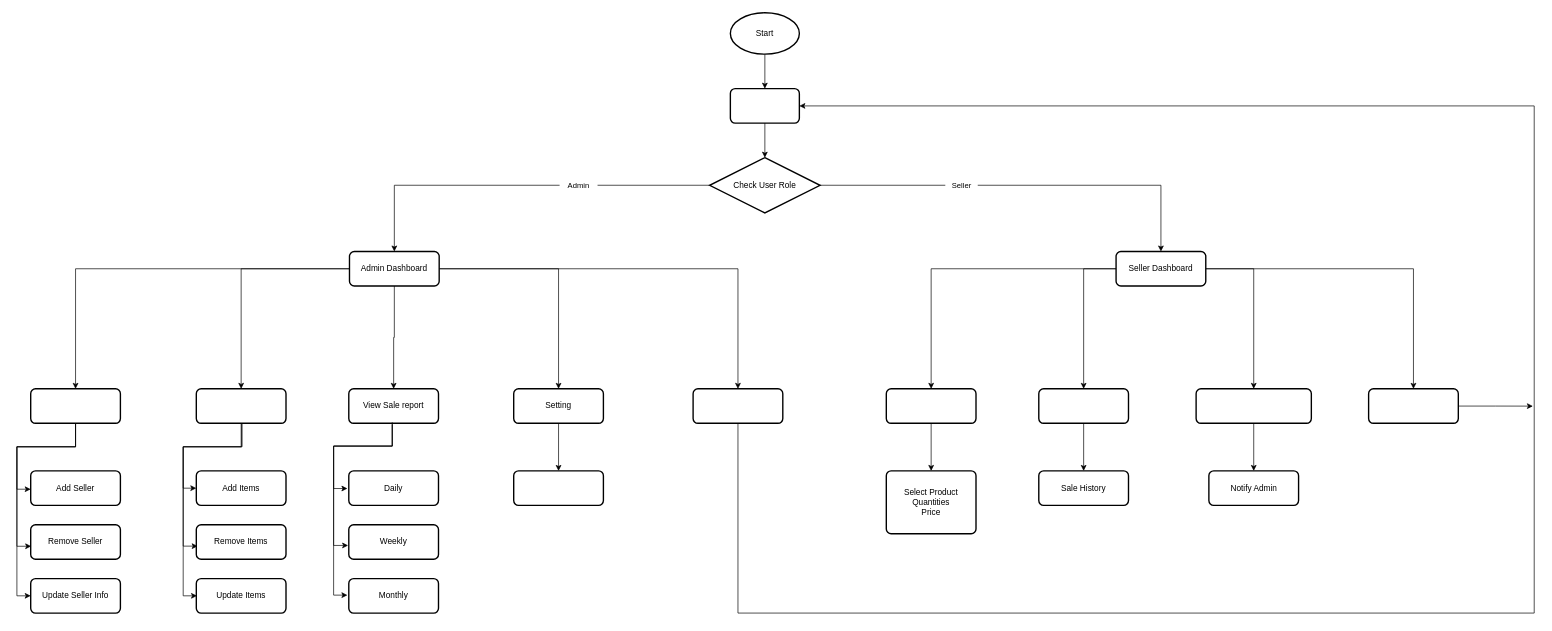
Some shapes in this 1552 by 631 pixel diagram are drawn without their labels. The centre of each missing label's shape, as x and y in pixels:
History: (x=1083, y=406)
Log Out (Admin): (x=737, y=406)
Log Out (Seller): (x=1413, y=406)
Manage Product: (x=240, y=406)
Manage Seller: (x=75, y=406)
Record Sale: (x=930, y=406)
Request Product Refill: (x=1253, y=406)
Update Shop Info: (x=558, y=488)
User Login: (x=764, y=106)
